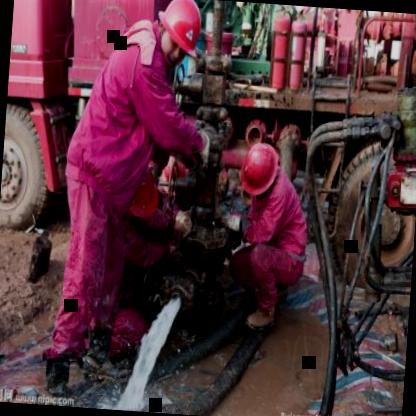helmet: (156, 0, 205, 69), (238, 141, 283, 199)
